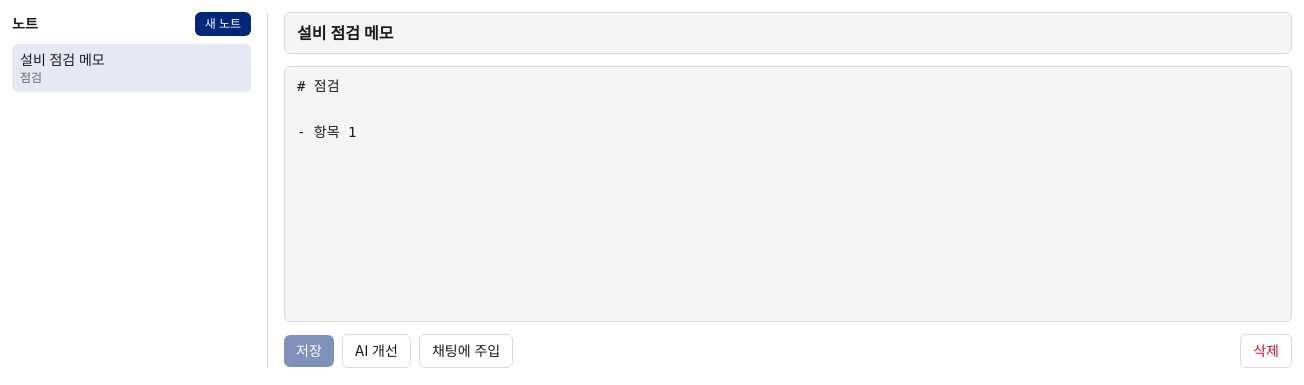
Test: NotesWorkspace › AI 개선을 누르면 enhance 결과가 에디터 본문을 교체한다
The image size is (1304, 385).
Expected: the field named "노트 제목" holds "설비 점검 메모", x1=284 y1=12 x2=1292 y2=54
Click the button with test id "note-enhance": (376, 351) x1=342 y1=334 x2=411 y2=368
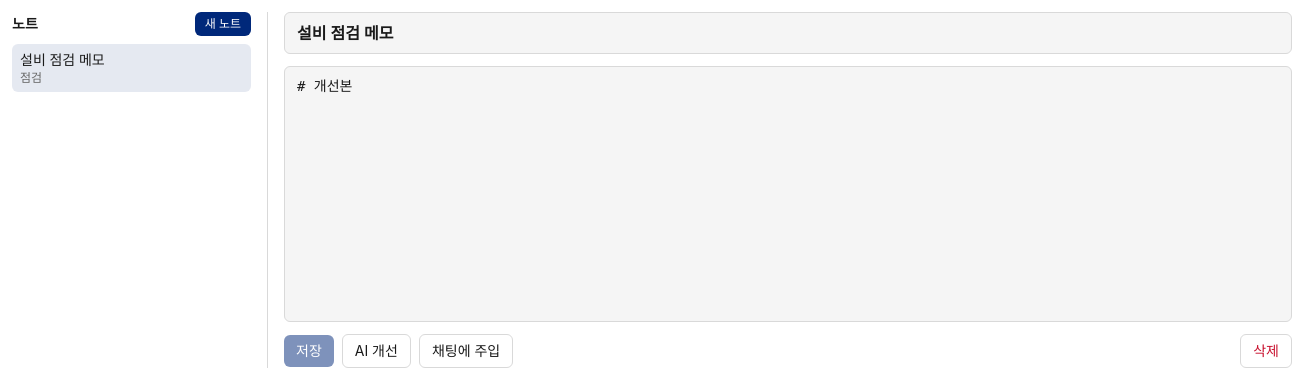
Expected: the text box named "노트 본문(마크다운)" holds "# 개선본", x1=284 y1=66 x2=1292 y2=322
